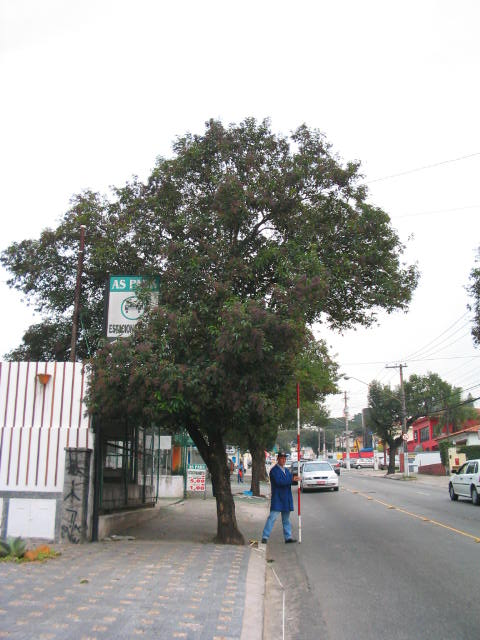crown: (2, 118, 416, 464)
stem: (195, 461, 249, 543)
stick: (289, 383, 316, 543)
tree: (1, 116, 417, 545)
